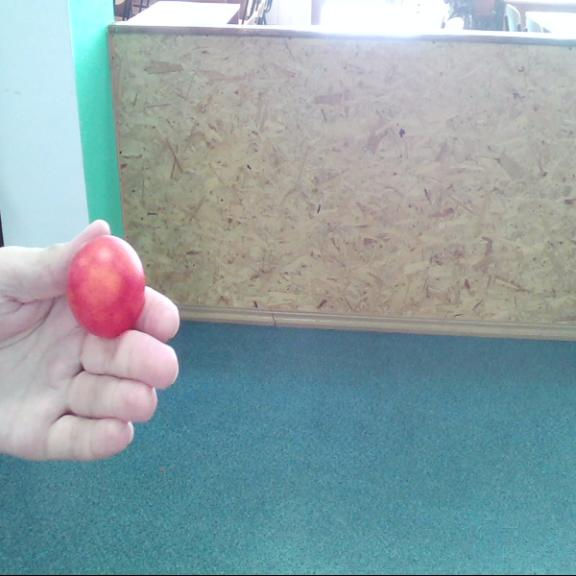ball: (67, 237, 149, 333)
